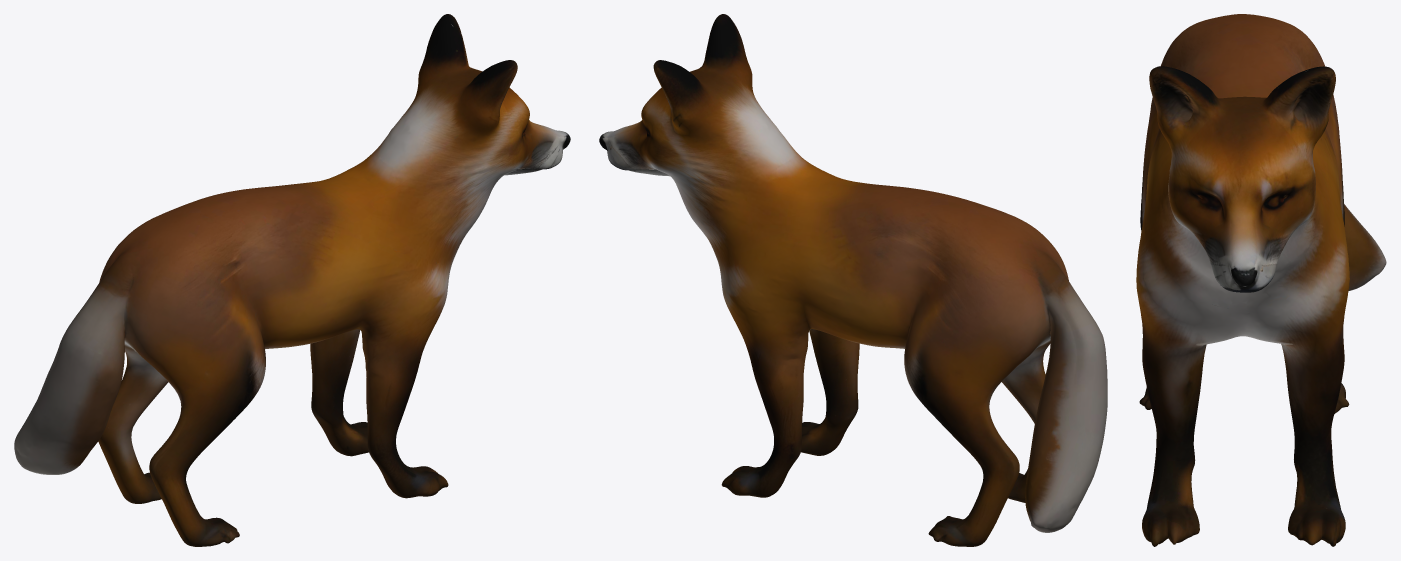
Rendered from normalfox.glb.
The picture shows the model from 3 angles, left to right: view 1: azimuth 30°, elevation 25°; view 2: azimuth 150°, elevation 25°; view 3: azimuth 270°, elevation 25°; orthographic projection. The views are drawn at different scales.
Parts seen in each view (by area): view 1: tripo_node_9a85fbe9-7b5c-4208-a06c-a94c72eff50b; view 2: tripo_node_9a85fbe9-7b5c-4208-a06c-a94c72eff50b; view 3: tripo_node_9a85fbe9-7b5c-4208-a06c-a94c72eff50b.
Part boxes in pixels (bbox=[...]): tripo_node_9a85fbe9-7b5c-4208-a06c-a94c72eff50b: bbox=[14, 14, 570, 546]; tripo_node_9a85fbe9-7b5c-4208-a06c-a94c72eff50b: bbox=[599, 14, 1107, 546]; tripo_node_9a85fbe9-7b5c-4208-a06c-a94c72eff50b: bbox=[1136, 14, 1386, 546].
Bounding box in the file's own units: 0.9434 × 0.7164 × 0.3081.
Materials: 1 (1 with a texture image).
